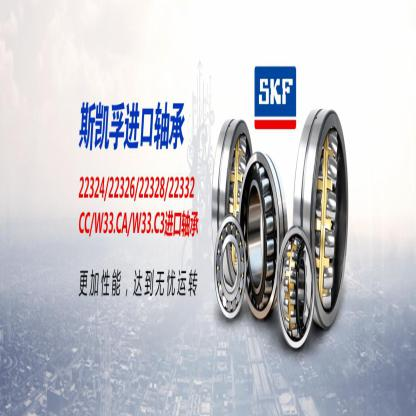FOD: (238, 148, 288, 328), (210, 108, 253, 283), (214, 214, 248, 318)
